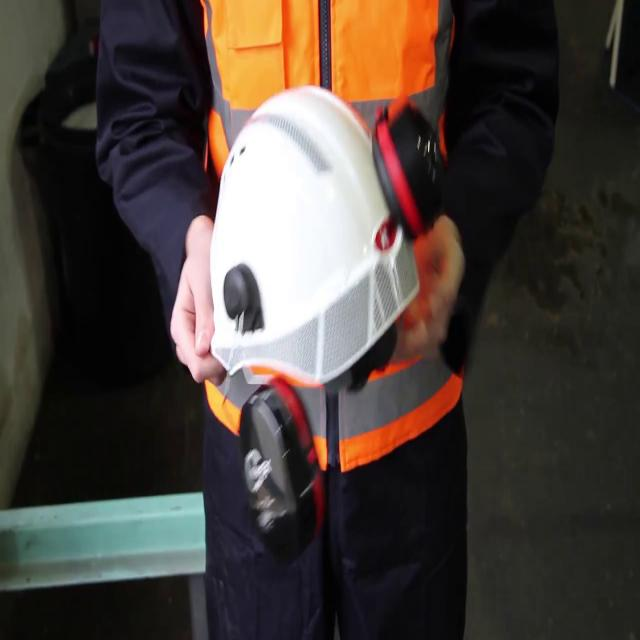earmuff: (236, 374, 330, 576)
helmet: (206, 78, 424, 386)
